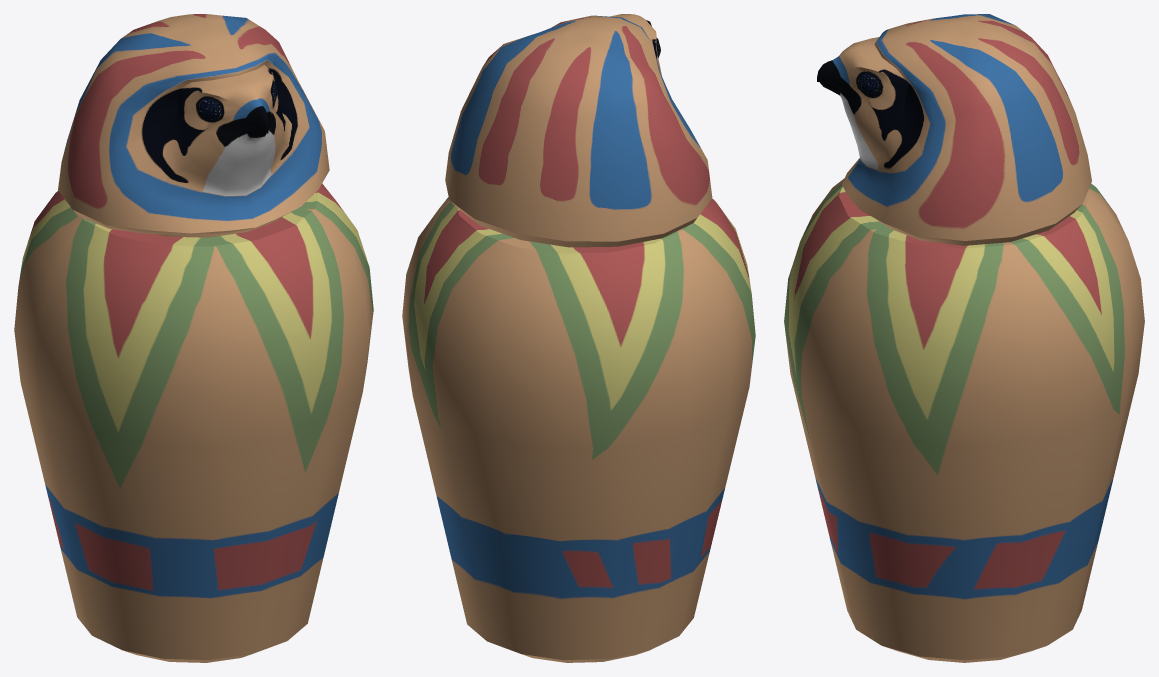
File: Falcon Jar.fbx
The picture shows the model from 3 angles, left to right: view 1: azimuth 30°, elevation 25°; view 2: azimuth 150°, elevation 25°; view 3: azimuth 270°, elevation 25°; orthographic projection.
Visible parts, largest first — view 1: Jar, Lid; view 2: Jar, Lid; view 3: Jar, Lid.
Boxes of the visible parts, x1=… form: Jar: x1=14, y1=183, x2=373, y2=662; Lid: x1=58, y1=14, x2=329, y2=237; Jar: x1=402, y1=197, x2=755, y2=662; Lid: x1=445, y1=14, x2=712, y2=247; Jar: x1=784, y1=178, x2=1144, y2=662; Lid: x1=817, y1=14, x2=1091, y2=245.
Bounding box in the file's own units: 0.2902 × 0.5279 × 0.2902.
